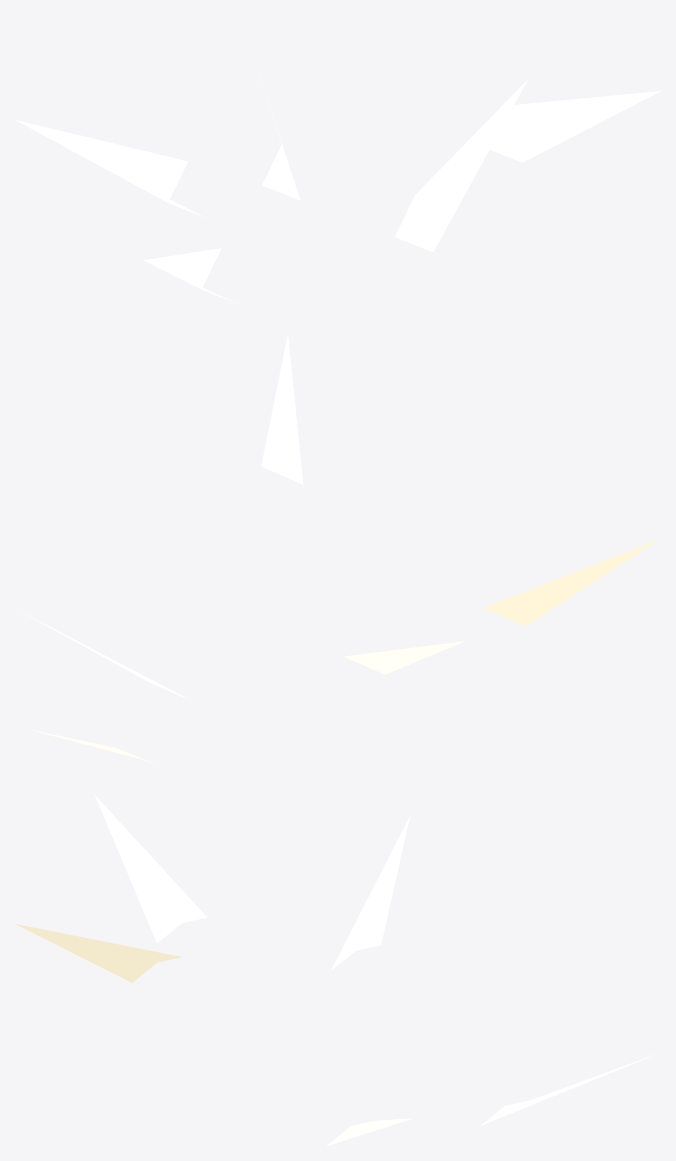
The model's file is contact_steel.glb.
3 views of the same model, one above another, from view 1: azimuth 30°, elevation 25°; view 2: azimuth 150°, elevation 25°; view 3: azimuth 270°, elevation 25° (orthographic). The views are drawn at different scales.
Visible parts, largest first — view 1: contact_steel sparse contact artwork; view 2: contact_steel sparse contact artwork; view 3: contact_steel sparse contact artwork.
Boxes of the visible parts, bbox=[...] form: contact_steel sparse contact artwork: bbox=[14, 61, 660, 303]; contact_steel sparse contact artwork: bbox=[16, 334, 660, 765]; contact_steel sparse contact artwork: bbox=[15, 795, 658, 1146].
Size of the model in its own units: 0.6465 by 0.302 by 0.7189.
